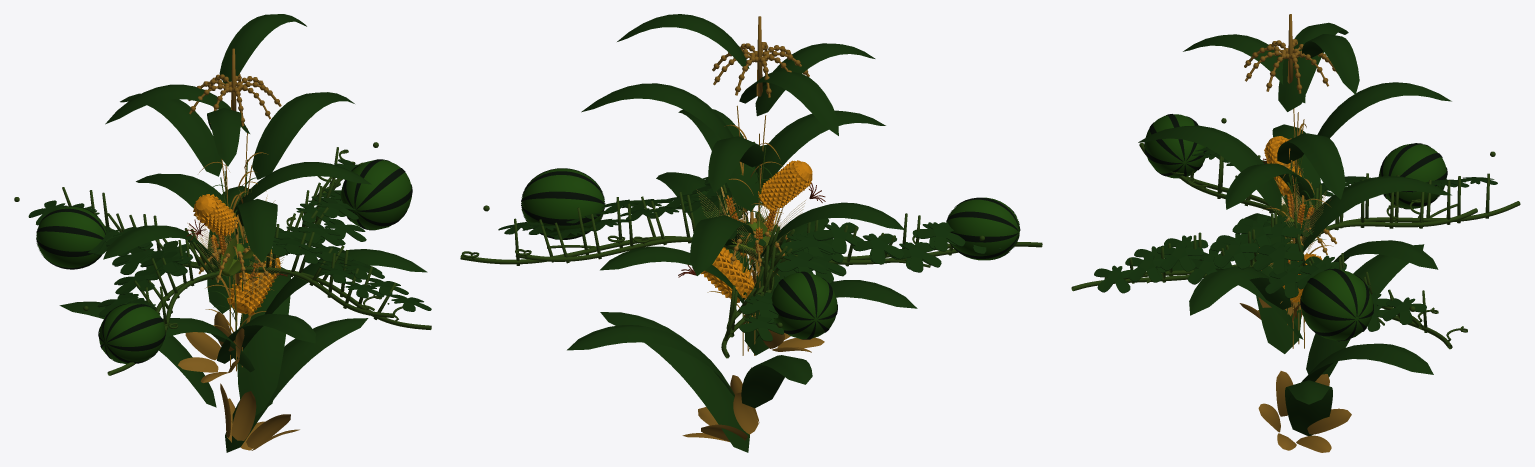
Rendered from CropOrig.glb.
3 renders of one model, left to right at view 1: azimuth 30°, elevation 25°; view 2: azimuth 150°, elevation 25°; view 3: azimuth 270°, elevation 25°, orthographic. The views are drawn at different scales.
Visible parts, largest first — view 1: Corn_Stage3_leaf_green, Corn_Stage5_leaf_green, Watermelon_Stage5_rind_light, Watermelon_Stage5_leaf_green, Corn_Stage5_husk_dry, Watermelon_Stage5_rind_stripe, Watermelon_Stage5_vine_green, Watermelon_Stage3_vine_green, Watermelon_Stage3_leaf_green, Corn_Stage5_kernel_gold, Wheat_Stage5_awn_straw, Wheat_Stage5_leaf_dry (+3 smaller); view 2: Corn_Stage3_leaf_green, Corn_Stage5_leaf_green, Watermelon_Stage5_rind_light, Watermelon_Stage5_leaf_green, Watermelon_Stage5_vine_green, Corn_Stage5_husk_dry, Watermelon_Stage5_rind_stripe, Watermelon_Stage3_vine_green, Corn_Stage5_kernel_gold, Watermelon_Stage3_leaf_green, Wheat_Stage5_awn_straw; view 3: Corn_Stage5_leaf_green, Corn_Stage3_leaf_green, Watermelon_Stage5_leaf_green, Watermelon_Stage5_rind_light, Corn_Stage5_husk_dry, Watermelon_Stage5_vine_green, Watermelon_Stage3_vine_green, Watermelon_Stage5_rind_stripe, Watermelon_Stage3_leaf_green, Corn_Stage5_kernel_gold, Wheat_Stage5_awn_straw, Wheat_Stage5_leaf_dry (+1 smaller).
Part boxes in pixels (left/top/right/bottom): Corn_Stage3_leaf_green: left=59, top=14, right=371, bottom=452; Corn_Stage5_leaf_green: left=105, top=84, right=427, bottom=415; Watermelon_Stage5_rind_light: left=36, top=160, right=411, bottom=364; Watermelon_Stage5_leaf_green: left=28, top=159, right=431, bottom=316; Corn_Stage5_husk_dry: left=178, top=48, right=299, bottom=450; Watermelon_Stage5_rind_stripe: left=36, top=159, right=412, bottom=363; Watermelon_Stage5_vine_green: left=14, top=142, right=431, bottom=375; Watermelon_Stage3_vine_green: left=102, top=176, right=394, bottom=332; Watermelon_Stage3_leaf_green: left=84, top=189, right=384, bottom=308; Corn_Stage5_kernel_gold: left=193, top=194, right=280, bottom=315; Wheat_Stage5_awn_straw: left=187, top=192, right=284, bottom=297; Wheat_Stage5_leaf_dry: left=199, top=152, right=278, bottom=343; Corn_Stage3_leaf_green: left=600, top=14, right=904, bottom=452; Corn_Stage5_leaf_green: left=567, top=71, right=917, bottom=396; Watermelon_Stage5_rind_light: left=521, top=168, right=1019, bottom=339; Watermelon_Stage5_leaf_green: left=498, top=144, right=1001, bottom=341; Watermelon_Stage5_vine_green: left=460, top=141, right=1042, bottom=358; Corn_Stage5_husk_dry: left=682, top=16, right=824, bottom=441; Watermelon_Stage5_rind_stripe: left=521, top=168, right=1020, bottom=339; Watermelon_Stage3_vine_green: left=515, top=184, right=950, bottom=337; Corn_Stage5_kernel_gold: left=701, top=160, right=812, bottom=302; Watermelon_Stage3_leaf_green: left=548, top=189, right=956, bottom=318; Wheat_Stage5_awn_straw: left=696, top=187, right=805, bottom=273; Corn_Stage5_leaf_green: left=1138, top=22, right=1451, bottom=404; Corn_Stage3_leaf_green: left=1156, top=34, right=1451, bottom=435; Watermelon_Stage5_leaf_green: left=1094, top=147, right=1497, bottom=331; Watermelon_Stage5_rind_light: left=1145, top=114, right=1446, bottom=340; Corn_Stage5_husk_dry: left=1239, top=14, right=1351, bottom=452; Watermelon_Stage5_vine_green: left=1071, top=118, right=1520, bottom=349; Watermelon_Stage3_vine_green: left=1124, top=155, right=1477, bottom=328; Watermelon_Stage5_rind_stripe: left=1144, top=114, right=1447, bottom=341; Watermelon_Stage3_leaf_green: left=1134, top=152, right=1457, bottom=306; Corn_Stage5_kernel_gold: left=1264, top=136, right=1322, bottom=302; Wheat_Stage5_awn_straw: left=1258, top=168, right=1331, bottom=267; Wheat_Stage5_leaf_dry: left=1261, top=123, right=1333, bottom=322.
Size of the model in its own units: 1.77 by 1.73 by 1.66.
